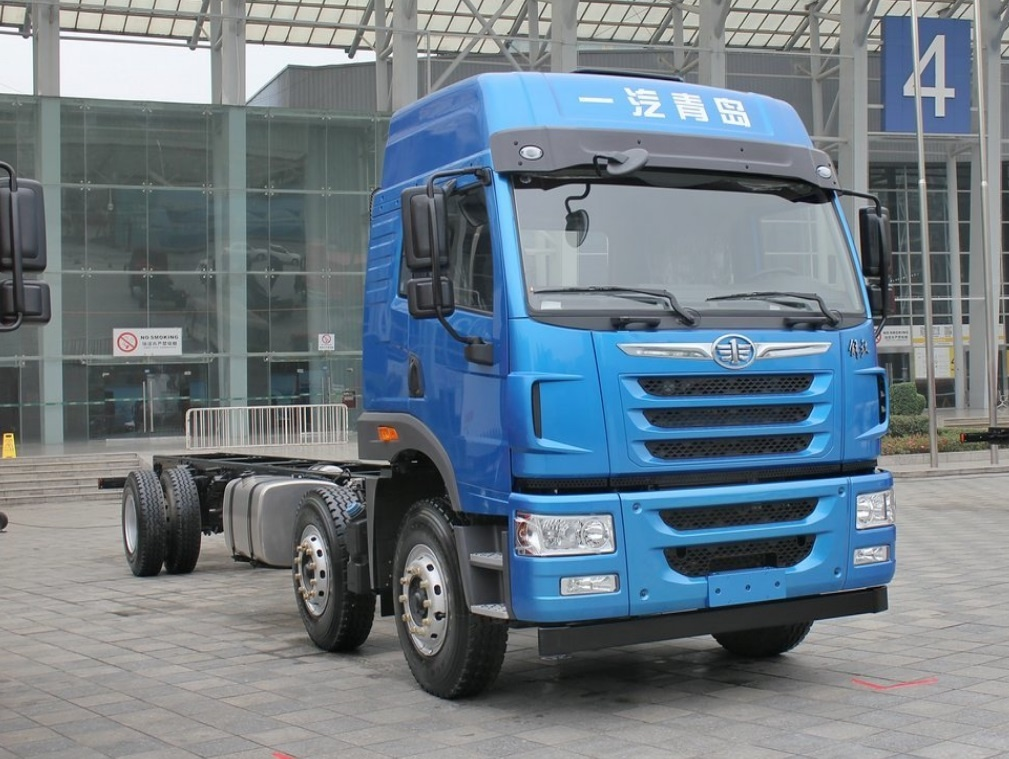heavy truck: (116, 63, 908, 706)
